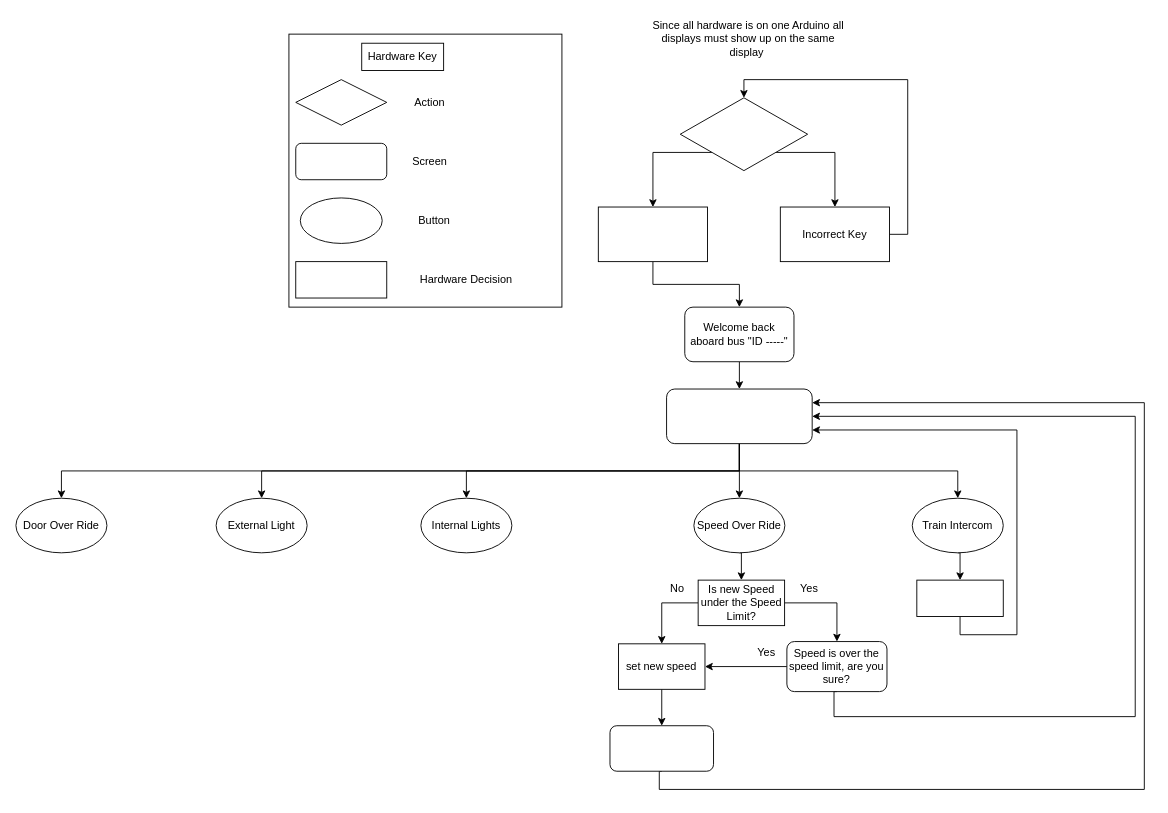
The diagram is 1168 pixels wide and 813 high, and some of its shapes have lost their labels. Each missing label, with the centre of its shape:
Bus Key: pixel 743 134
Correct Key: pixel 652 234
Default Display (shows speed and current state of train mechanics): pixel 739 416
Display new speed: pixel 661 748
Intercom on until Driver releases button: pixel 959 598
